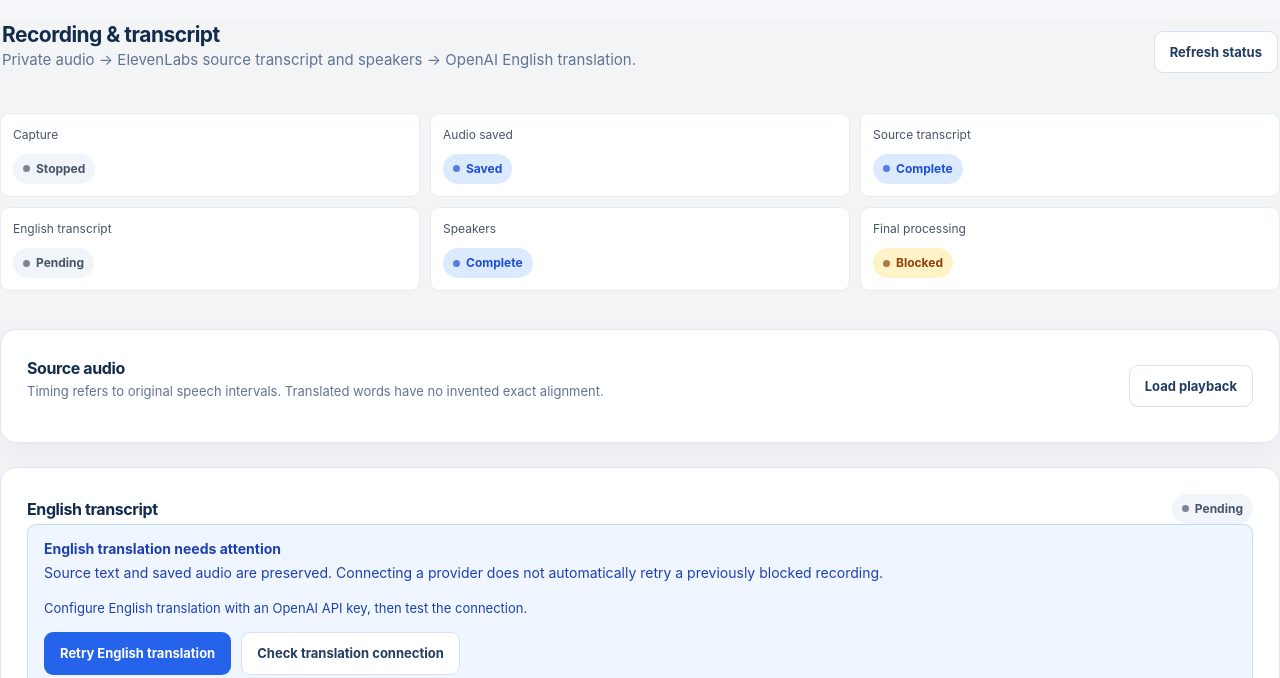
Test case: actual source and English processing results › confirms provider usage before retrying only retained source translation
Click the button "Retry English translation" at (138, 654), box [44,632,231,675]
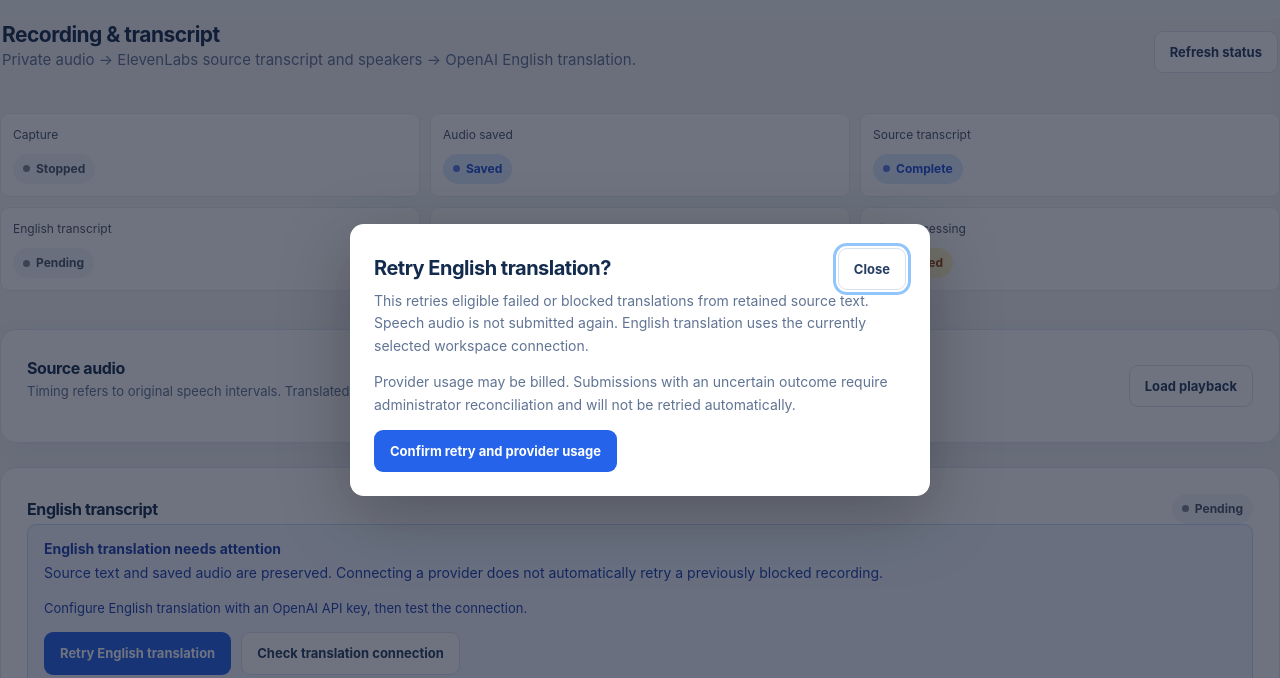
Now the text "Speech audio is not submitted again" is shown, box [374,292,869,354]
Double-click the button "Confirm retry and provider usage" at (496, 451), box [374,430,617,472]
(page scrolled)
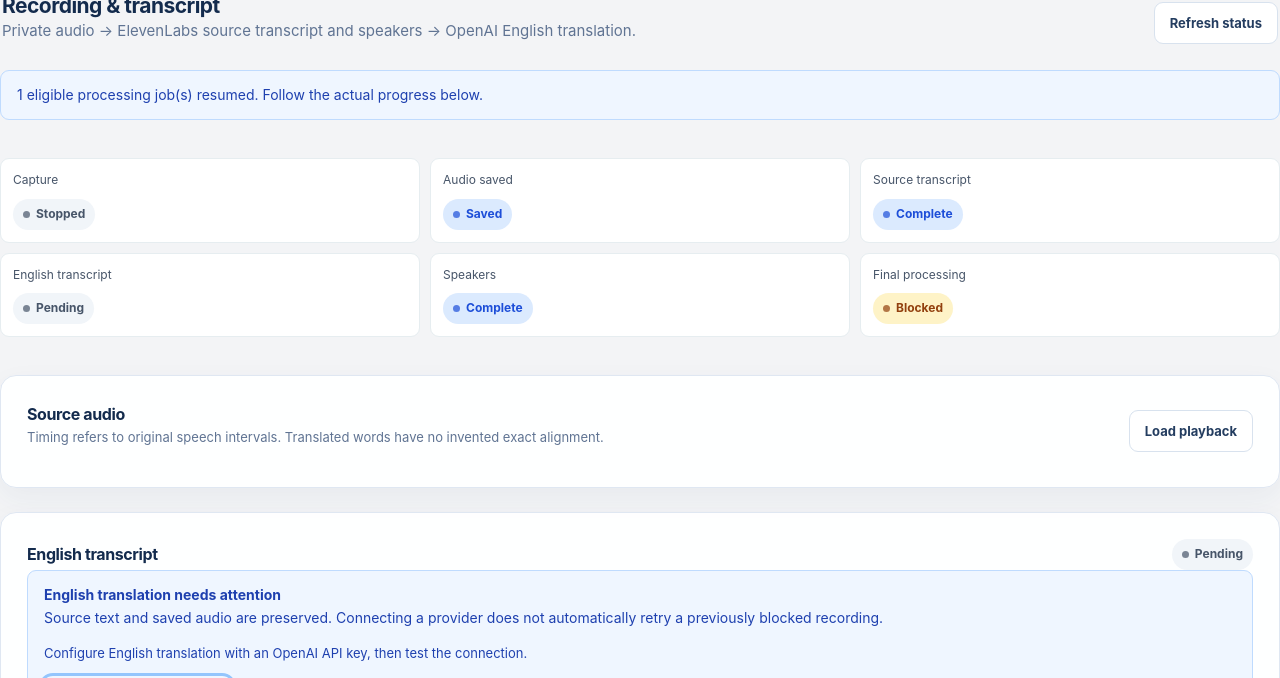
Now the text "1 eligible processing job(s) resumed. Follow the actual progress below." is shown, box [0,70,1279,120]
